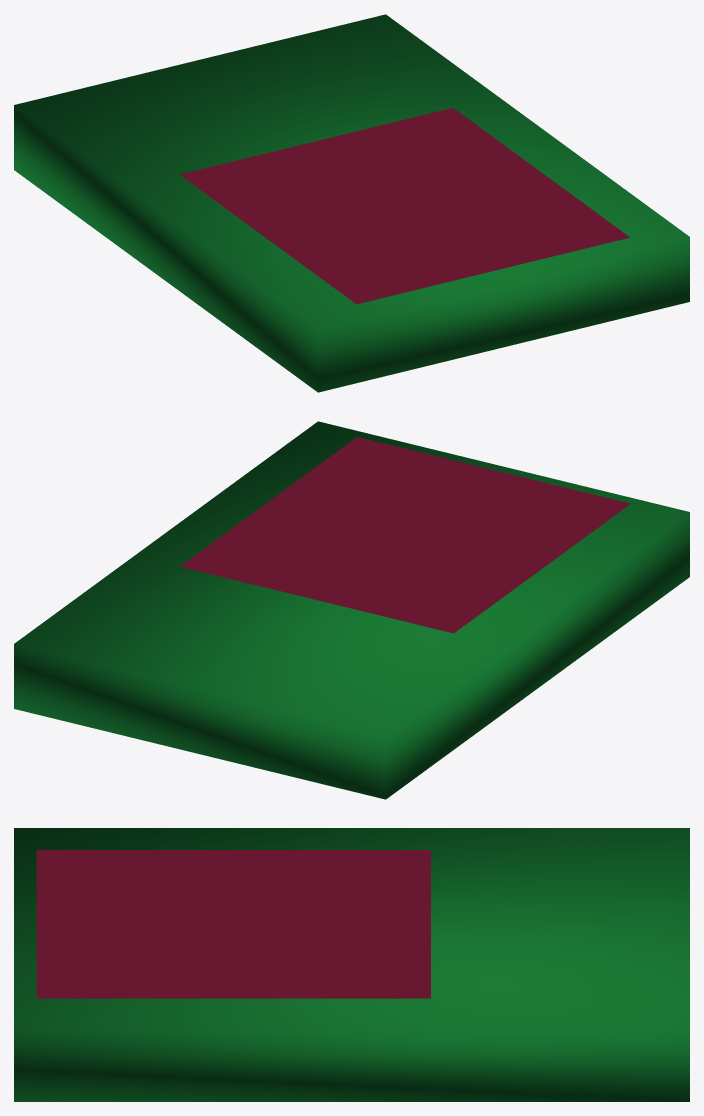
The model's file is newscene.obj.
3 views of the same model, one above another, from view 1: azimuth 30°, elevation 25°; view 2: azimuth 150°, elevation 25°; view 3: azimuth 270°, elevation 25° (orthographic). The views are drawn at different scales.
Visible parts, largest first — view 1: cube31, grid35; view 2: cube31, grid35; view 3: cube31, grid35.
Boxes of the visible parts, x1,y1,x2,y2 form: cube31: (14,14,689,392); grid35: (179,108,629,304); cube31: (14,421,689,799); grid35: (180,437,630,633); cube31: (14,828,689,1101); grid35: (36,850,430,998).
Bounding box in the file's own units: 1533 × 276 × 2172.
